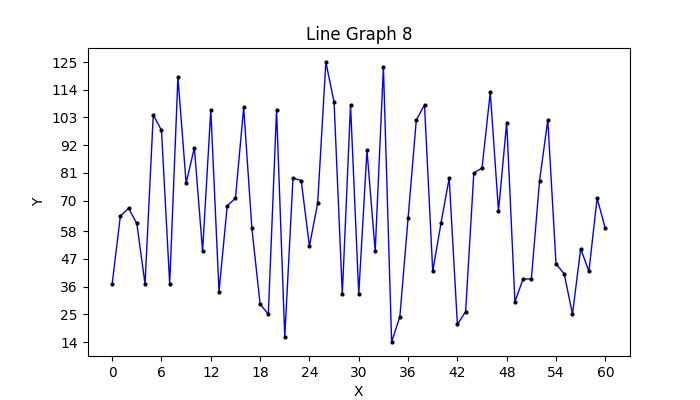cvs: (88, 48, 630, 356)
